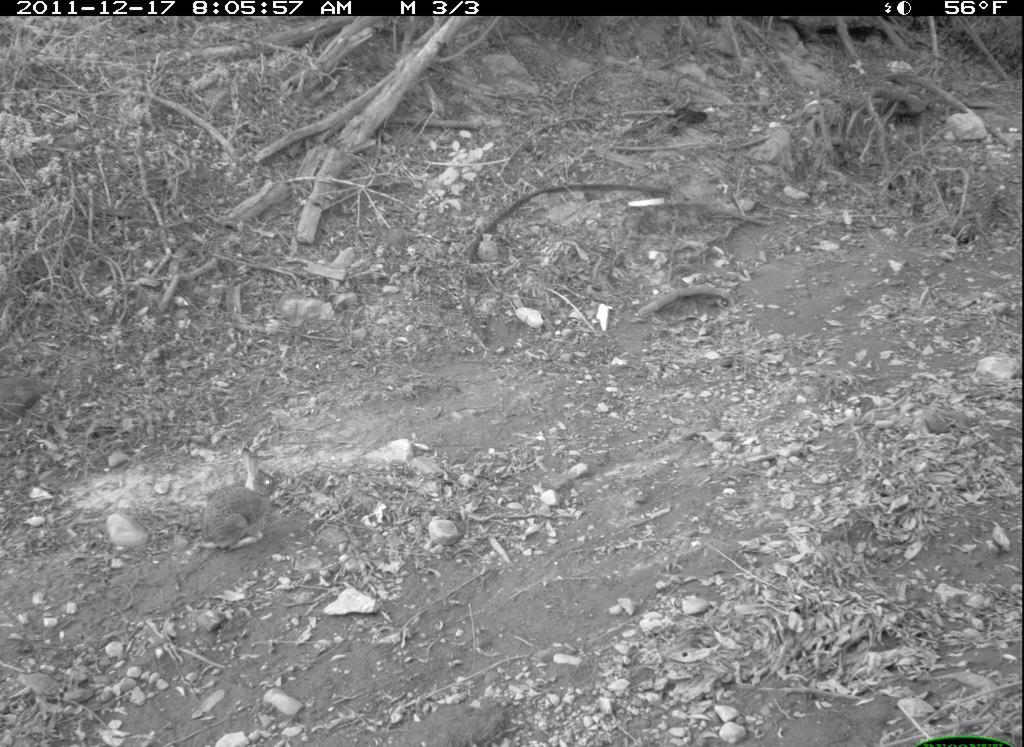rabbit: (178, 433, 299, 570)
